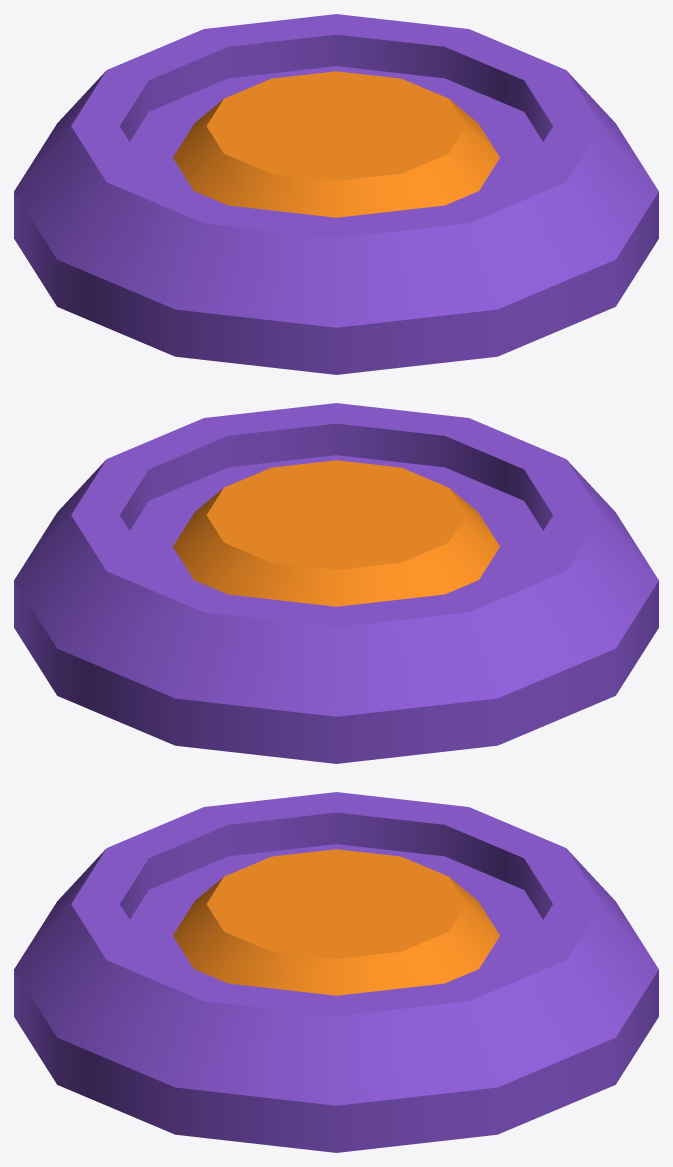
The model's file is SM_CoffeMug_Cover.fbx.
3 renders of one model, top to bottom at view 1: azimuth 30°, elevation 25°; view 2: azimuth 150°, elevation 25°; view 3: azimuth 270°, elevation 25°, orthographic.
Visible parts, largest first — view 1: SM_CoffeMug_Cover; view 2: SM_CoffeMug_Cover; view 3: SM_CoffeMug_Cover.
Part boxes in pixels (left/top/right/bottom): SM_CoffeMug_Cover: left=14, top=14, right=658, bottom=374; SM_CoffeMug_Cover: left=14, top=403, right=658, bottom=763; SM_CoffeMug_Cover: left=14, top=792, right=658, bottom=1152.
Size of the model in its own units: 7.87 by 1.51 by 7.87.
